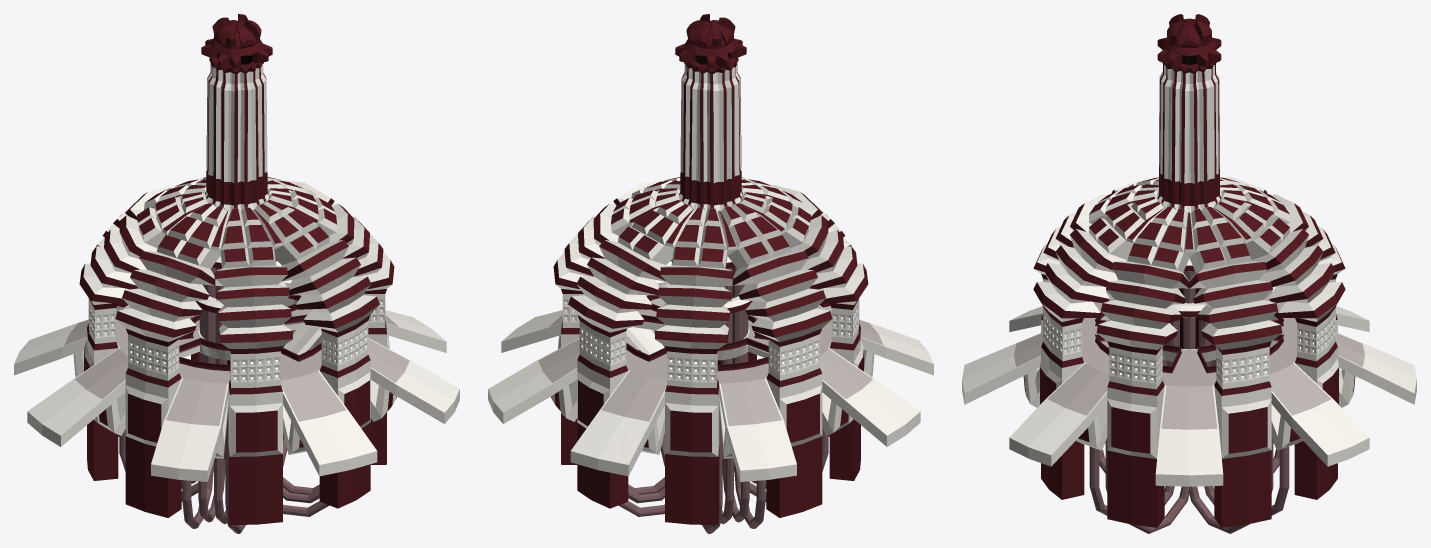
The model's file is geonew.gltf.
3 views of the same model, side by side, from view 1: azimuth 30°, elevation 25°; view 2: azimuth 150°, elevation 25°; view 3: azimuth 270°, elevation 25° (orthographic).
Visible parts, largest first — view 1: GeothermalPowerStation_body, GeothermalPowerStation_PipeContact, GeothermalPowerStation_Fancs, GeothermalPowerStation_Pipe; view 2: GeothermalPowerStation_body, GeothermalPowerStation_PipeContact, GeothermalPowerStation_Fancs, GeothermalPowerStation_Pipe; view 3: GeothermalPowerStation_body, GeothermalPowerStation_PipeContact, GeothermalPowerStation_Pipe, GeothermalPowerStation_Fancs.
Part boxes in pixels (<box>): GeothermalPowerStation_body: <box>14,14,459,524</box>; GeothermalPowerStation_PipeContact: <box>119,429,329,533</box>; GeothermalPowerStation_Fancs: <box>179,295,321,371</box>; GeothermalPowerStation_Pipe: <box>199,267,227,364</box>; GeothermalPowerStation_body: <box>488,14,933,524</box>; GeothermalPowerStation_PipeContact: <box>618,429,828,533</box>; GeothermalPowerStation_Fancs: <box>626,295,768,371</box>; GeothermalPowerStation_Pipe: <box>720,267,748,364</box>; GeothermalPowerStation_body: <box>962,14,1416,527</box>; GeothermalPowerStation_PipeContact: <box>1089,444,1289,533</box>; GeothermalPowerStation_Pipe: <box>1162,271,1216,366</box>; GeothermalPowerStation_Fancs: <box>1095,312,1283,373</box>.
Size of the model in its own units: 35.93 by 42.22 by 35.93.
1 material, 1 textured.
